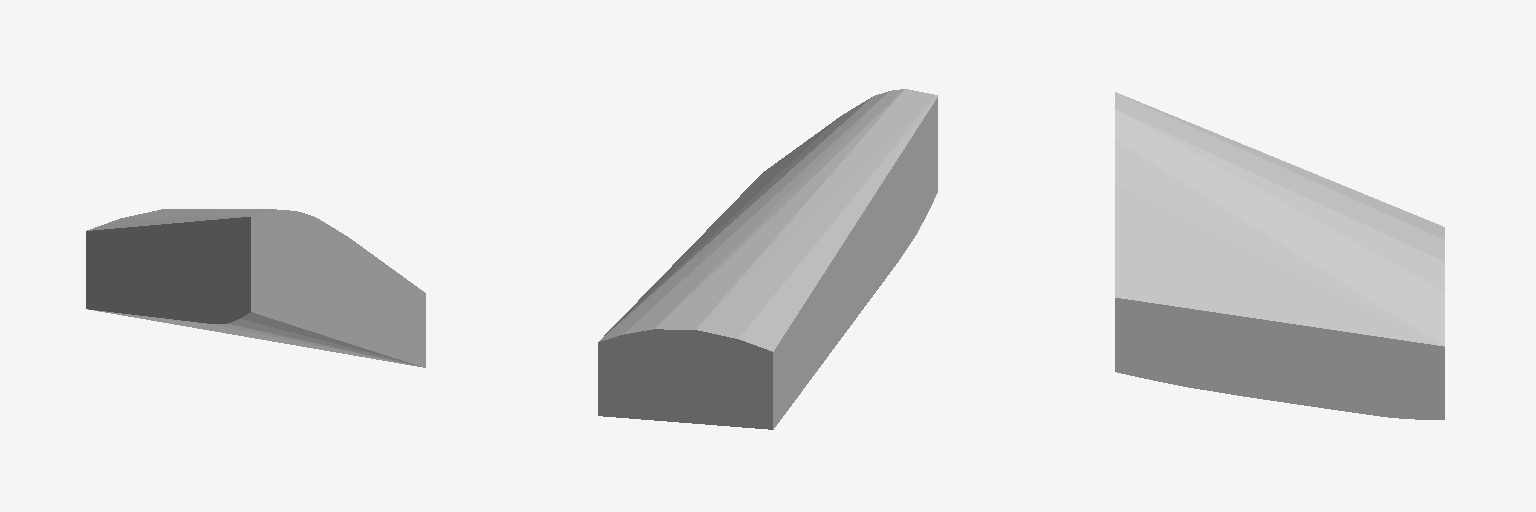
The model's file is phantom-elastrat_collision_392.obj.
3 views of the same model, side by side, from view 1: azimuth 30°, elevation 25°; view 2: azimuth 150°, elevation 25°; view 3: azimuth 270°, elevation 25° (orthographic).
Bounding box in the file's own units: 0.0047 × 0.0062 × 0.0077.